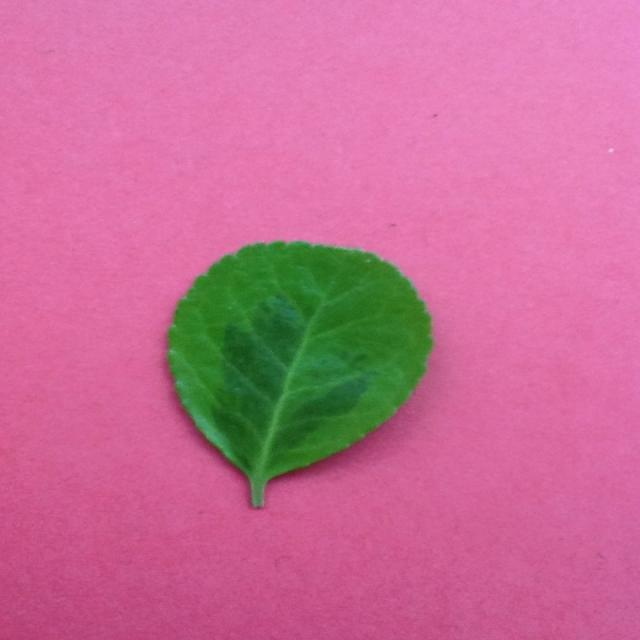foliage: (160, 242, 440, 516)
